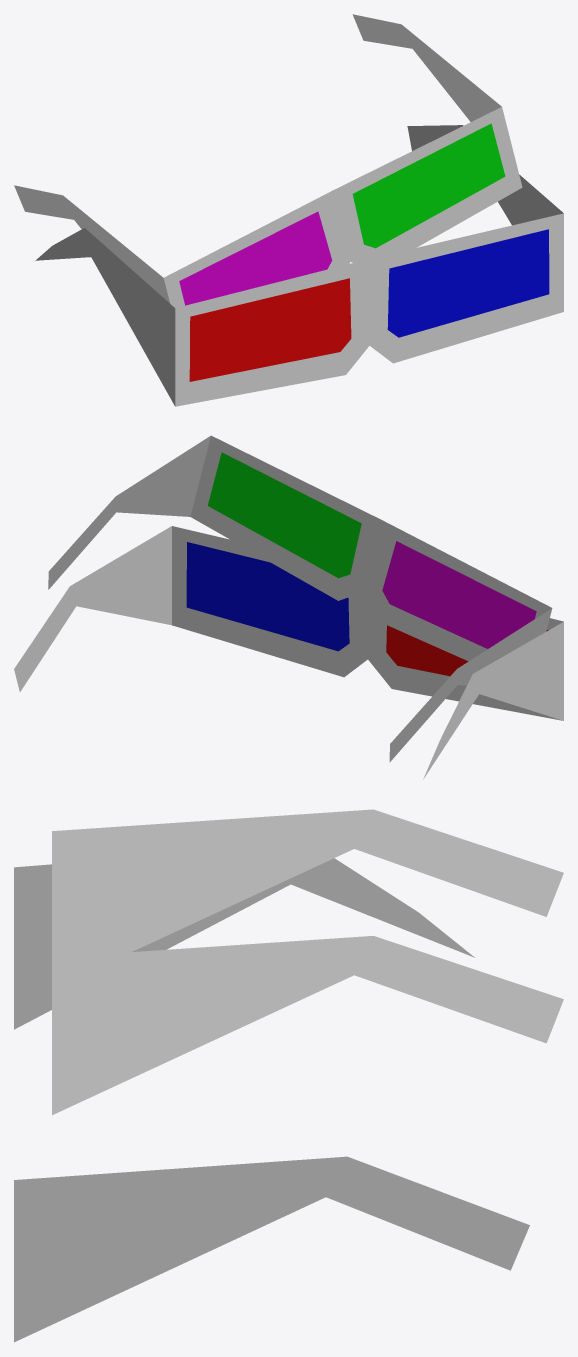
Rendered from FourDimentionalGlasses.fbx.
3 views of the same model, one above another, from view 1: azimuth 30°, elevation 25°; view 2: azimuth 150°, elevation 25°; view 3: azimuth 270°, elevation 25° (orthographic). The views are drawn at different scales.
Parts seen in each view (by area): view 1: Cube, Cube.001; view 2: Cube.001, Cube; view 3: Cube.001, Cube.
Boxes of the visible parts, left/top/right/bottom form: Cube: left=35, top=125, right=563, bottom=406; Cube.001: left=14, top=14, right=522, bottom=307; Cube.001: left=48, top=435, right=552, bottom=762; Cube: left=14, top=526, right=563, bottom=779; Cube.001: left=52, top=809, right=563, bottom=1115; Cube: left=14, top=858, right=529, bottom=1342.
Bounding box in the file's own units: 202 × 113 × 149.
